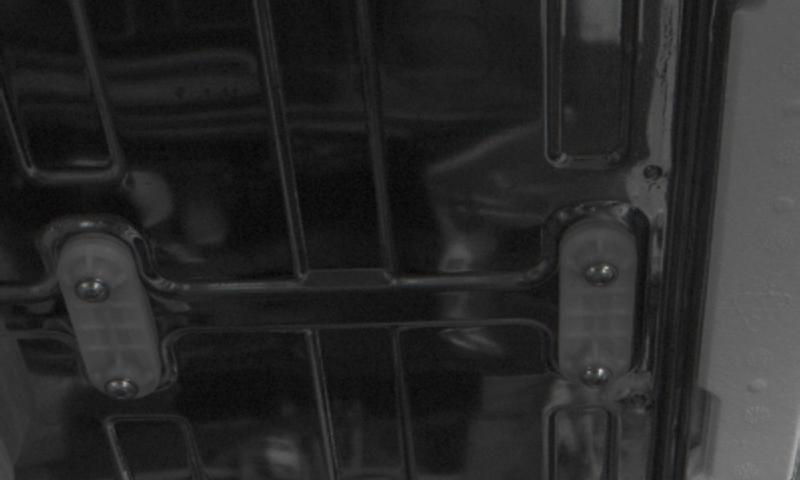vida-ok: (580, 250, 623, 295), (77, 267, 117, 312), (107, 366, 149, 406), (577, 353, 617, 392)
